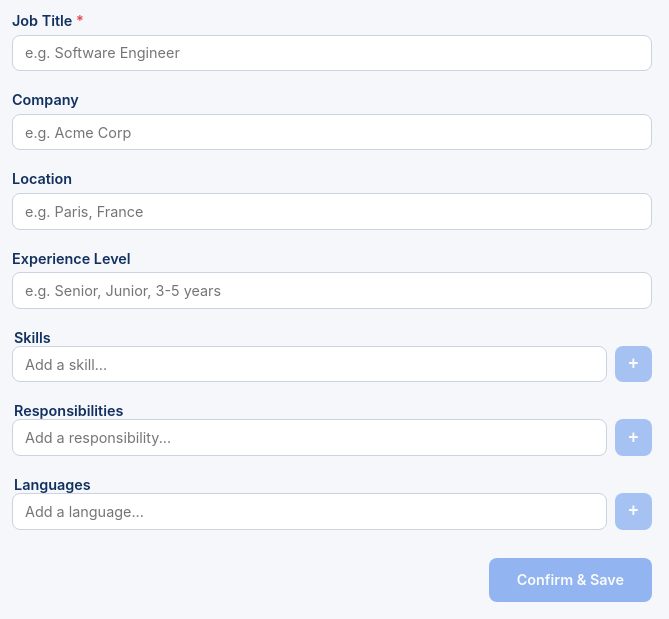
Test case: ExtractionReviewForm › enables Confirm when jobTitle has valid text
In the field with id "review-job-title": x=332, y=53 [12, 35, 652, 71], type "Engineer"
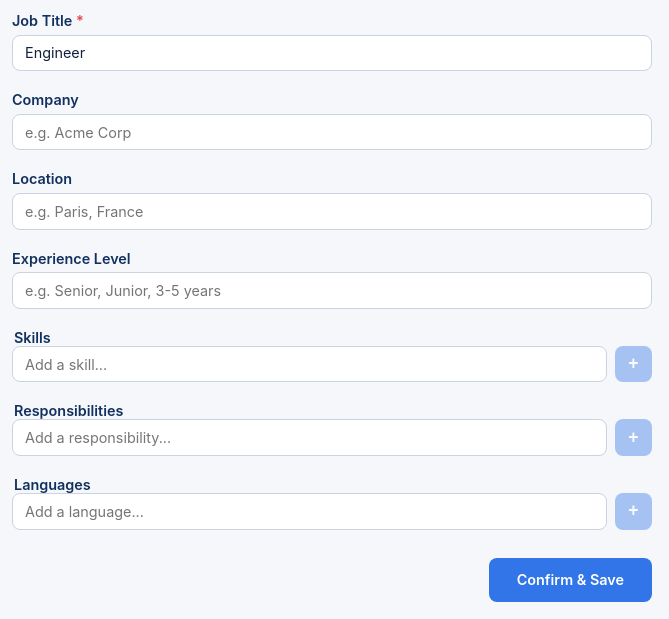
expect the submit button is enabled: met, box [489, 558, 652, 602]
